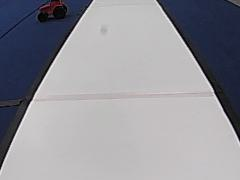Tracktor: (34, 0, 68, 24)
